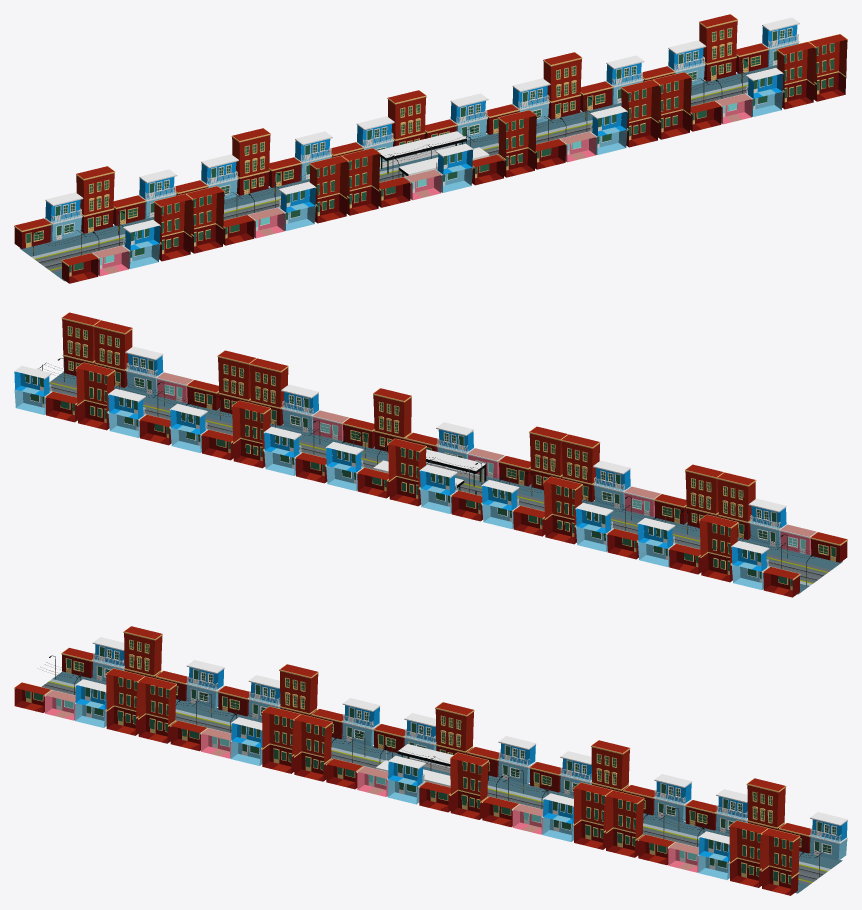
Rendered from tranvia.fbx.
3 views of the same model, one above another, from view 1: azimuth 30°, elevation 25°; view 2: azimuth 150°, elevation 25°; view 3: azimuth 330°, elevation 25° (orthographic).
Visible parts, largest first — view 1: carretera 024, edifio023, edifio093, edifio073, edifio083, edifio063, edifio099, edifio089, edifio069, edifio079, edifio066, edifio086 (+40 smaller); view 2: carretera 024, edifio093, edifio017, edifio083, edifio073, edifio063, edifio023, edifio089, edifio099, edifio079, edifio069, edifio066 (+43 smaller); view 3: edifio086, edifio076, edifio023, edifio096, edifio066, edifio079, edifio069, edifio089, edifio099, edifio017, edifio083, edifio073 (+39 smaller).
Boxes of the visible parts, box(x1,y1,x2,y2) form: carretera 024: box(20, 217, 154, 281); edifio023: box(497, 110, 537, 177); edifio093: box(543, 52, 582, 119); edifio073: box(76, 166, 115, 233); edifio083: box(699, 14, 737, 81); edifio063: box(231, 128, 270, 195); edifio099: box(620, 80, 660, 147); edifio089: box(776, 41, 815, 109); edifio069: box(309, 155, 348, 223); edifio079: box(153, 193, 192, 261); edifio066: box(341, 148, 380, 215); edifio086: box(808, 34, 847, 101); carretera 024: box(672, 524, 842, 594); edifio093: box(231, 400, 270, 468); edifio017: box(387, 438, 426, 506); edifio083: box(75, 362, 115, 430); edifio073: box(699, 514, 738, 582); edifio063: box(543, 476, 582, 544); edifio023: box(373, 388, 411, 451); edifio089: box(93, 320, 132, 387); edifio099: box(249, 358, 288, 425); edifio079: box(717, 472, 756, 539); edifio069: box(561, 434, 600, 501); edifio066: box(529, 426, 568, 489); edifio086: box(761, 828, 800, 895); edifio076: box(137, 676, 176, 743); edifio023: box(450, 752, 488, 819); edifio096: box(605, 790, 644, 857); edifio066: box(293, 714, 332, 781); edifio079: box(105, 668, 144, 735); edifio069: box(261, 706, 300, 773); edifio089: box(729, 820, 768, 887); edifio099: box(573, 782, 612, 849); edifio017: box(435, 702, 474, 754); edifio083: box(746, 778, 786, 830); edifio073: box(123, 626, 162, 678).
Size of the model in its own units: 6349 by 434 by 784.
